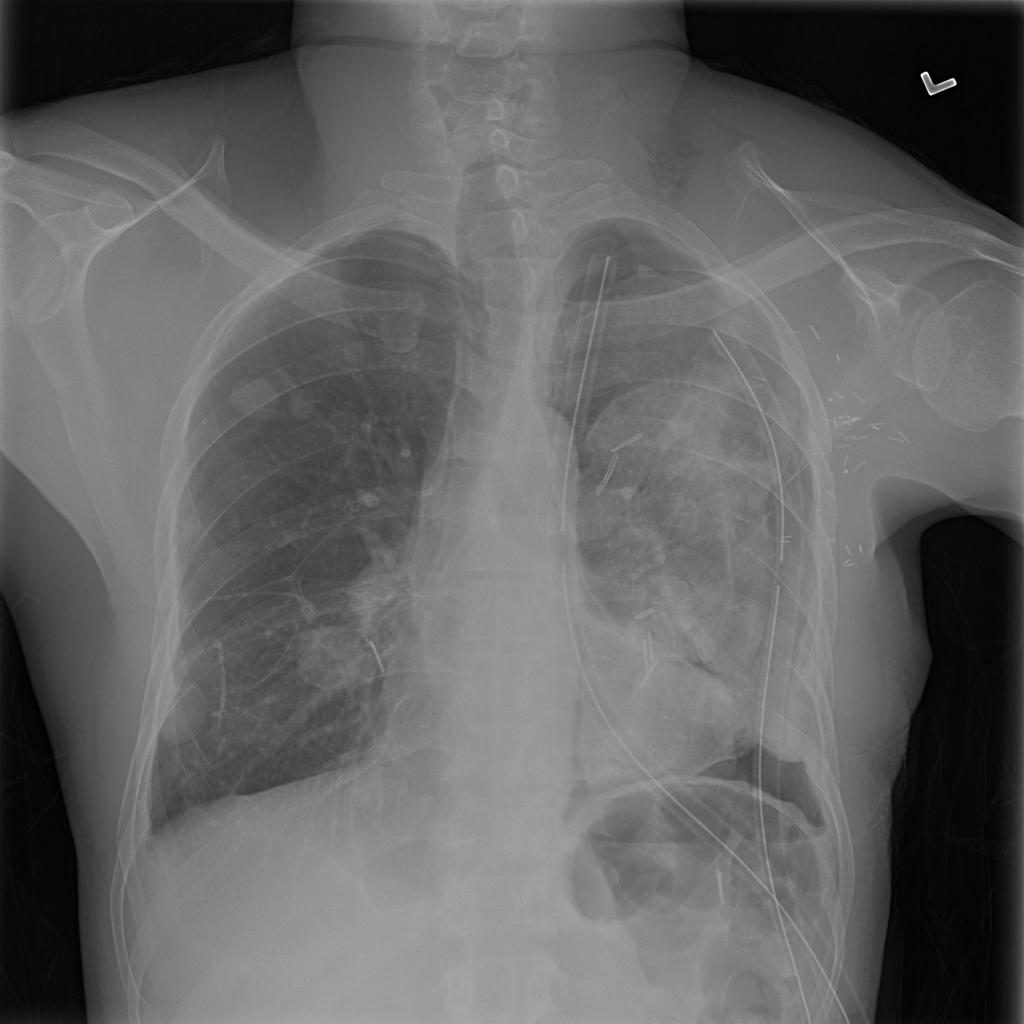nodule: (290, 618, 378, 700), (147, 664, 220, 750), (338, 554, 410, 638), (223, 366, 295, 431), (277, 381, 327, 428)
